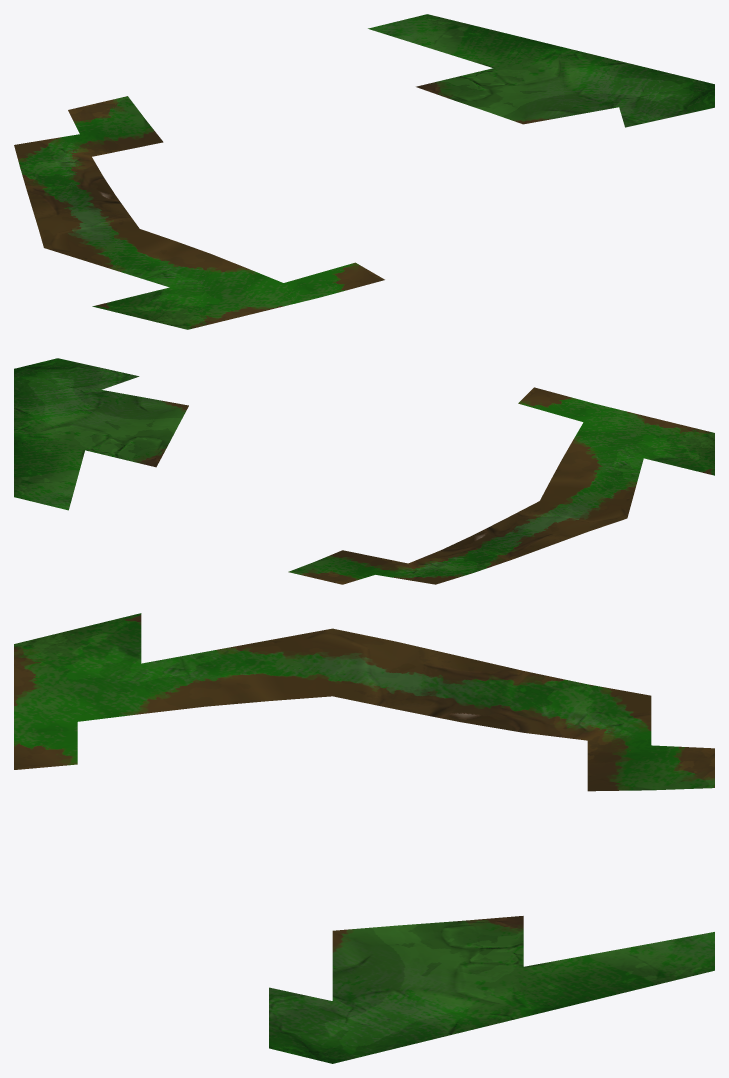
File: tile2_grass.fbx
3 renders of one model, top to bottom at view 1: azimuth 30°, elevation 25°; view 2: azimuth 150°, elevation 25°; view 3: azimuth 270°, elevation 25°, orthographic. The views are drawn at different scales.
Visible parts, largest first — view 1: TileNew.004; view 2: TileNew.004; view 3: TileNew.004.
Boxes of the visible parts, box(x1,y1,x2,y2) form: TileNew.004: box(14, 14, 714, 329); TileNew.004: box(14, 358, 714, 584); TileNew.004: box(14, 613, 714, 1063).
Bounding box in the file's own units: 1.77 × 0.0578 × 1.16.
Materials: 1 (1 with a texture image).
